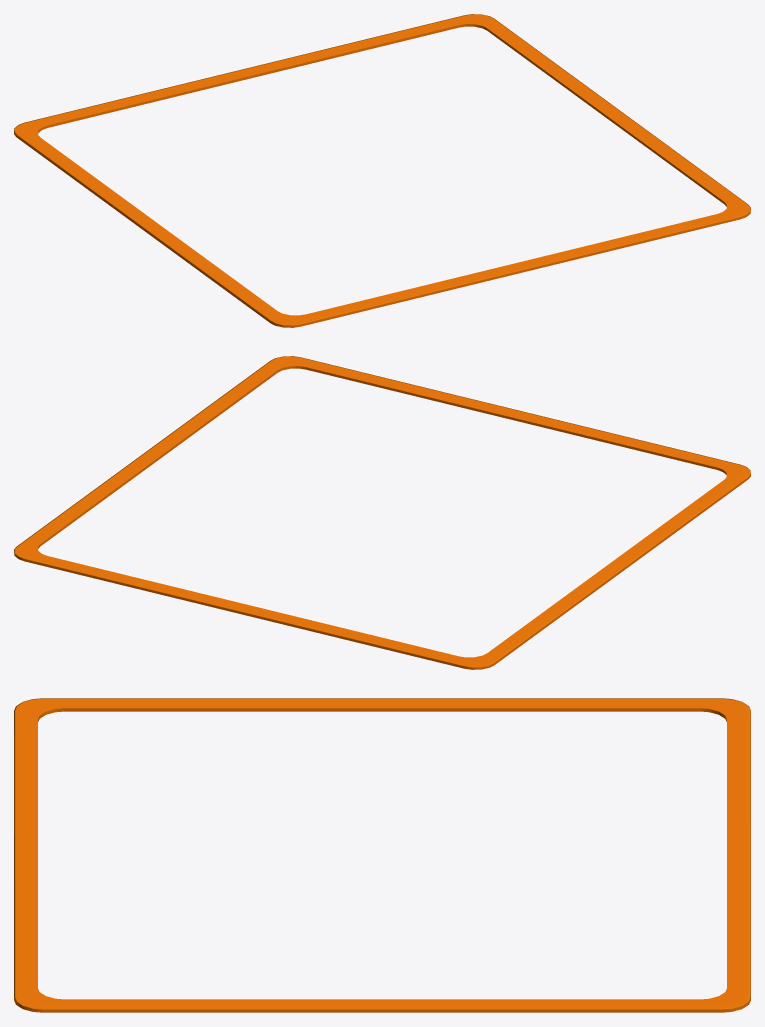
Rendered from border-objects.glb.
3 renders of one model, top to bottom at view 1: azimuth 30°, elevation 25°; view 2: azimuth 150°, elevation 25°; view 3: azimuth 270°, elevation 25°, orthographic. The views are drawn at different scales.
Parts seen in each view (by area): view 1: Box; view 2: Box; view 3: Box.
Boxes of the visible parts, <box> form: Box: <box>14,14,750,327</box>; Box: <box>14,356,750,669</box>; Box: <box>14,698,750,1012</box>.
Size of the model in its own units: 0.8317 by 0.00416 by 0.8317.
